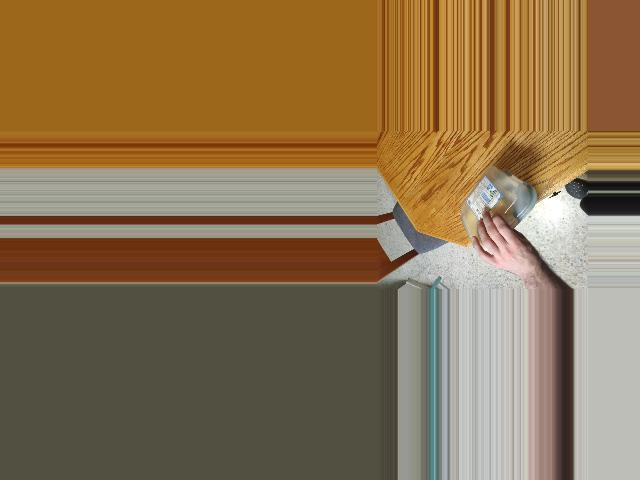cheese: (460, 166, 534, 258)
